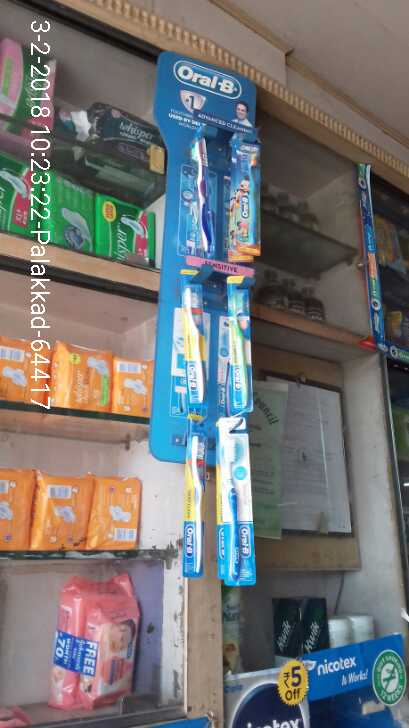oralb: (220, 422, 254, 583), (226, 123, 266, 259), (221, 273, 256, 411), (185, 121, 219, 262), (176, 285, 210, 409), (184, 429, 205, 577)
